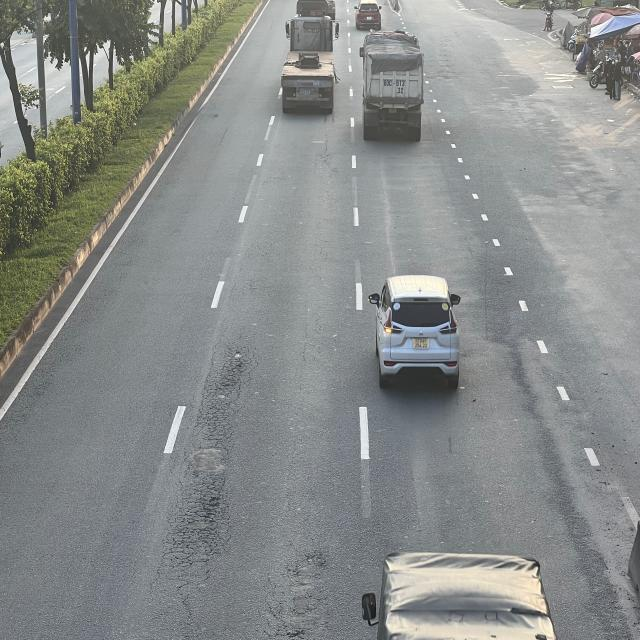car: (372, 278, 462, 395), (353, 2, 382, 29)
container: (358, 29, 424, 140), (283, 12, 342, 114)
